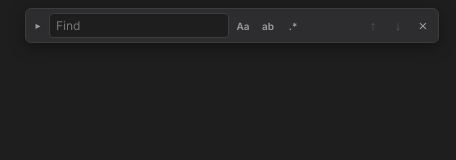
Test: FindWidget › shows "No results" when the query has no matches
This screenshot has width=456, height=160.
Type "xyz" into the field with placeholder "Find". click: (139, 26)
box: x1=49 y1=13 x2=229 y2=38
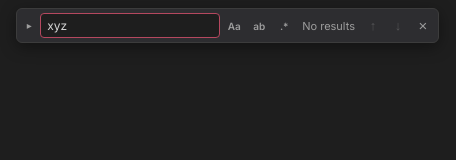
Check: the text "No results" is shown, box x1=298 y1=18 x2=359 y2=32
